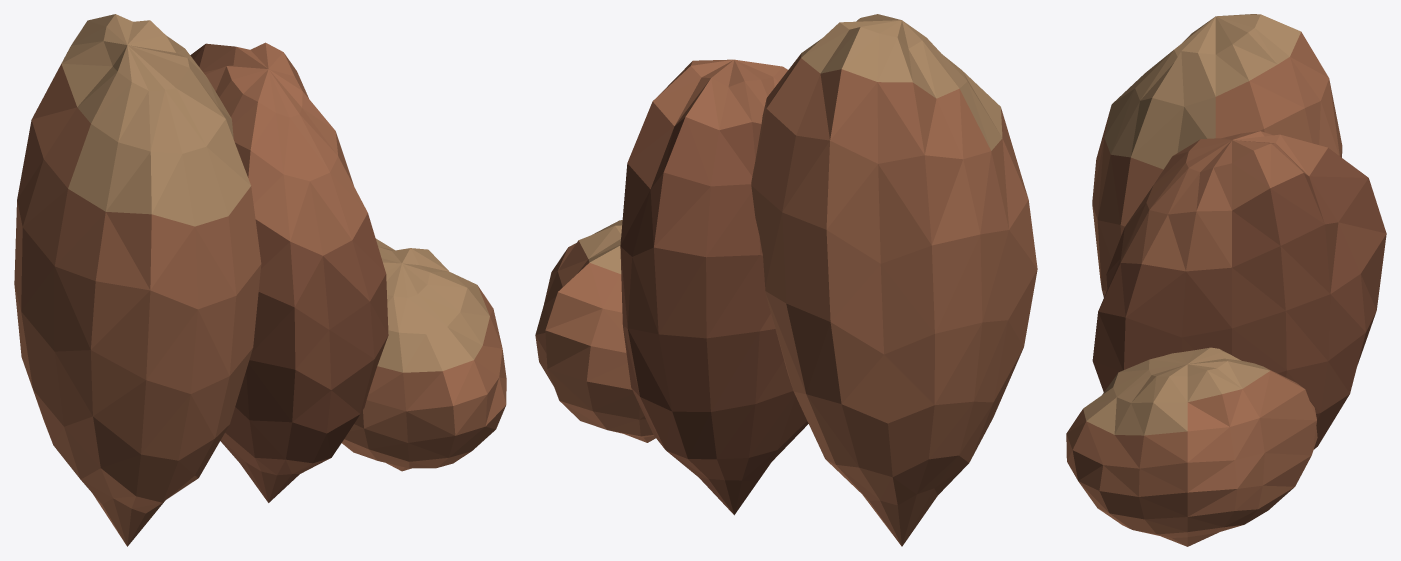
File: sc_rust_spires.glb
The picture shows the model from 3 angles, left to right: view 1: azimuth 30°, elevation 25°; view 2: azimuth 150°, elevation 25°; view 3: azimuth 270°, elevation 25°; orthographic projection. The views are drawn at different scales.
Parts seen in each view (by area): view 1: sc_rust_spires; view 2: sc_rust_spires; view 3: sc_rust_spires.
Boxes of the visible parts, box(x1,y1,x2,y2) form: sc_rust_spires: box(14, 14, 506, 546); sc_rust_spires: box(535, 14, 1037, 546); sc_rust_spires: box(1066, 14, 1386, 546).
Size of the model in its own units: 3.04 by 3.34 by 2.16.
